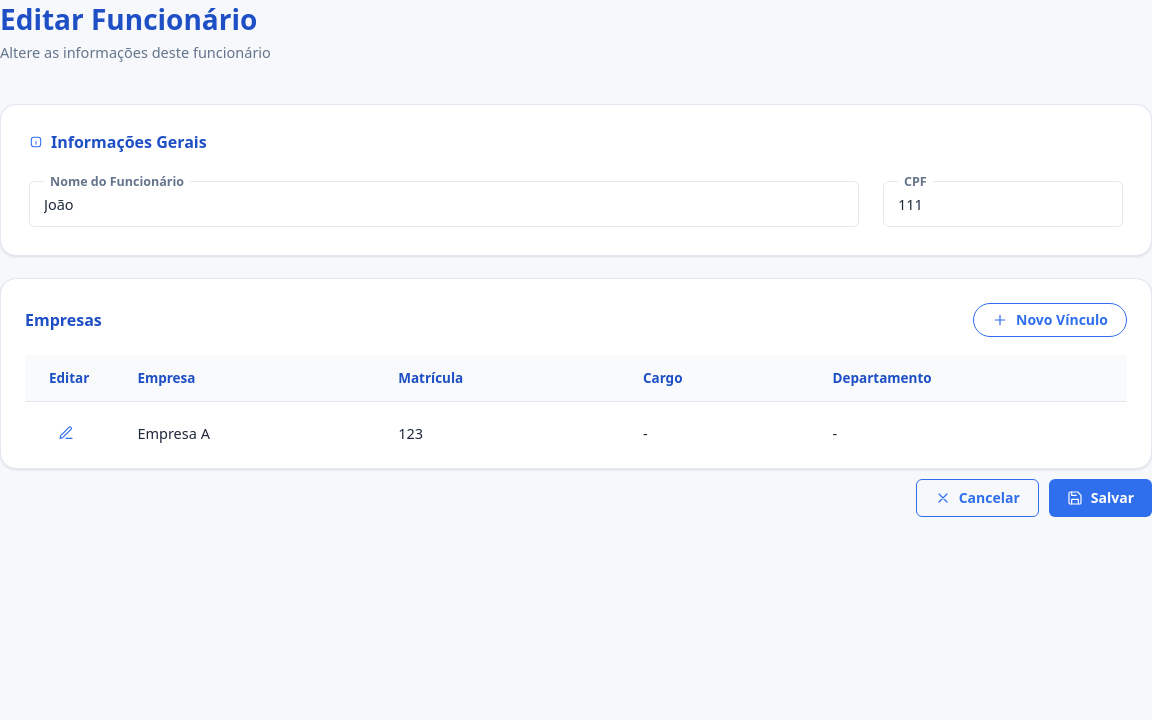
Test: FuncionarioForm › deve editar um vínculo existente
Expected: the text "Empresa A" is shown, [113, 402, 374, 464]
Click the button titled "Editar vínculo".
click(66, 433)  # box [49, 416, 83, 450]
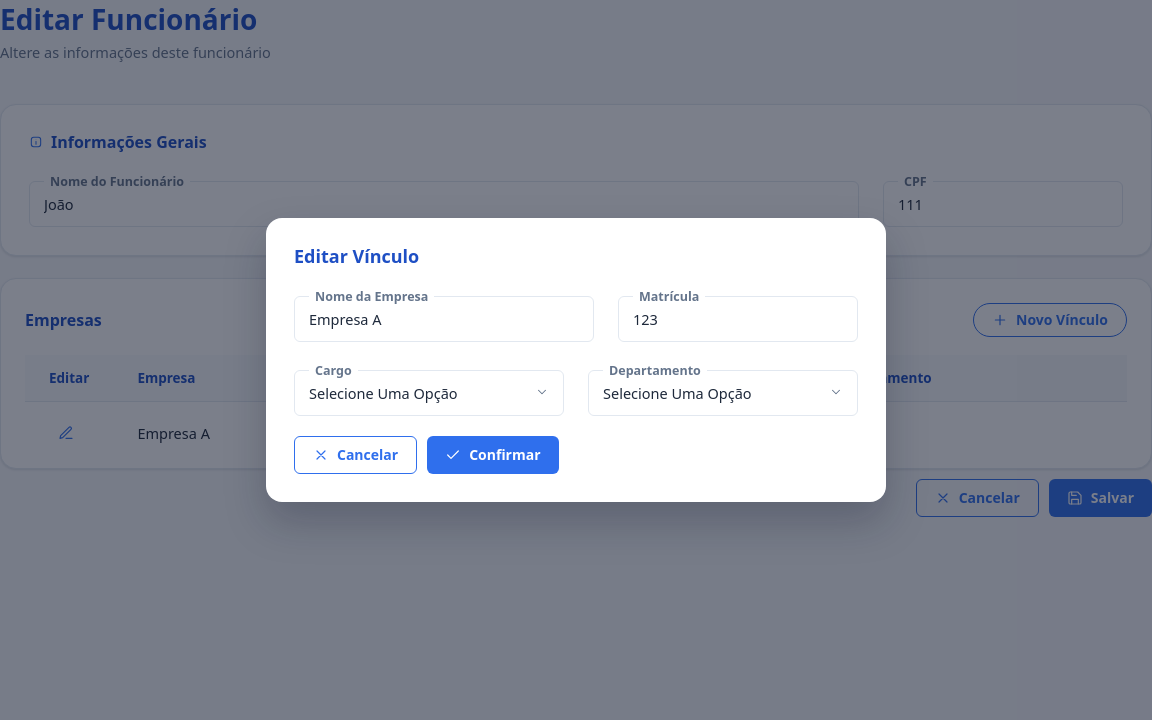
Expected: the heading "Editar Vínculo" is shown, [294, 244, 419, 268]
Replace the text in the field with placeholder "Insira o nome da empresa" below "Nome da Empresa" with "Empresa B" at point(444, 318), box [309, 305, 579, 331]
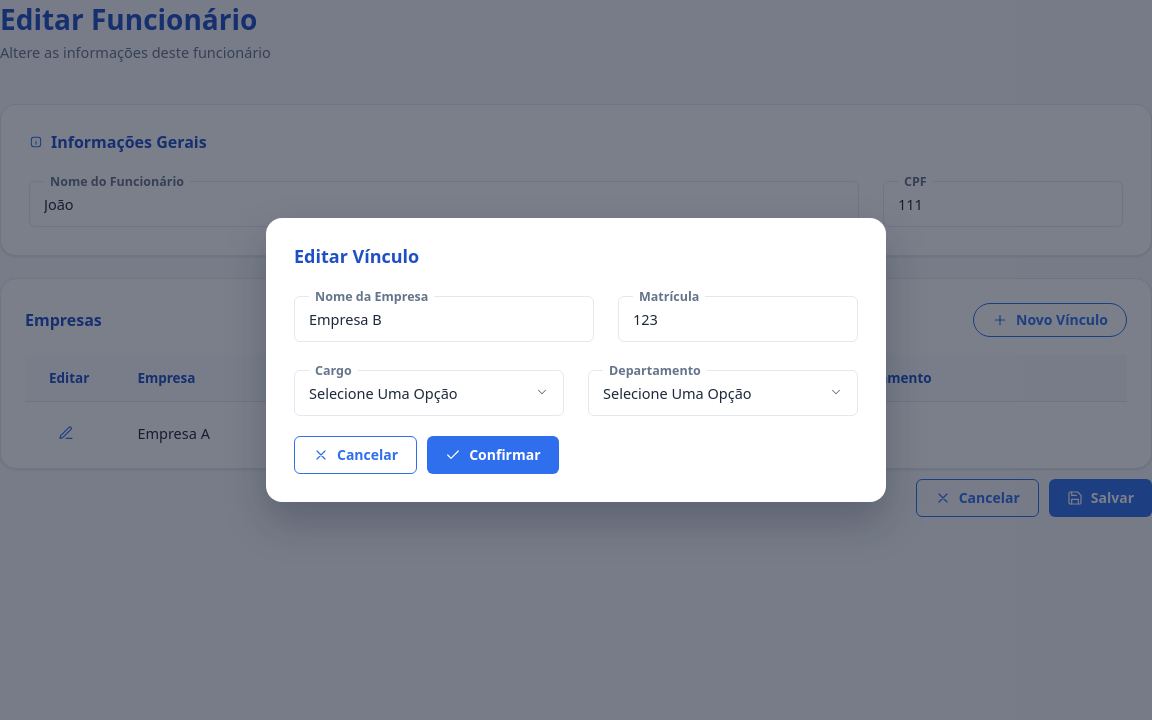
Replace the text in the 2nd field with placeholder "0000000000" with "999" at point(738, 318), box [633, 305, 843, 331]
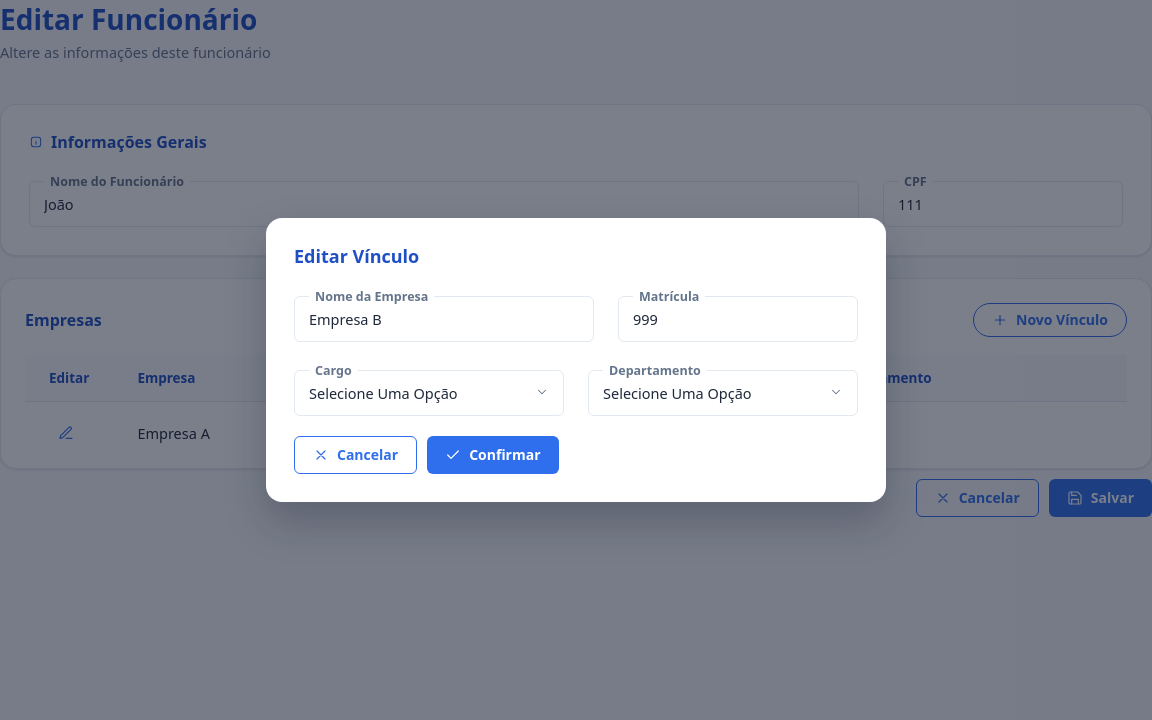
Select "Dev" in the 1st dropdown at point(429, 392), box [309, 379, 549, 405]
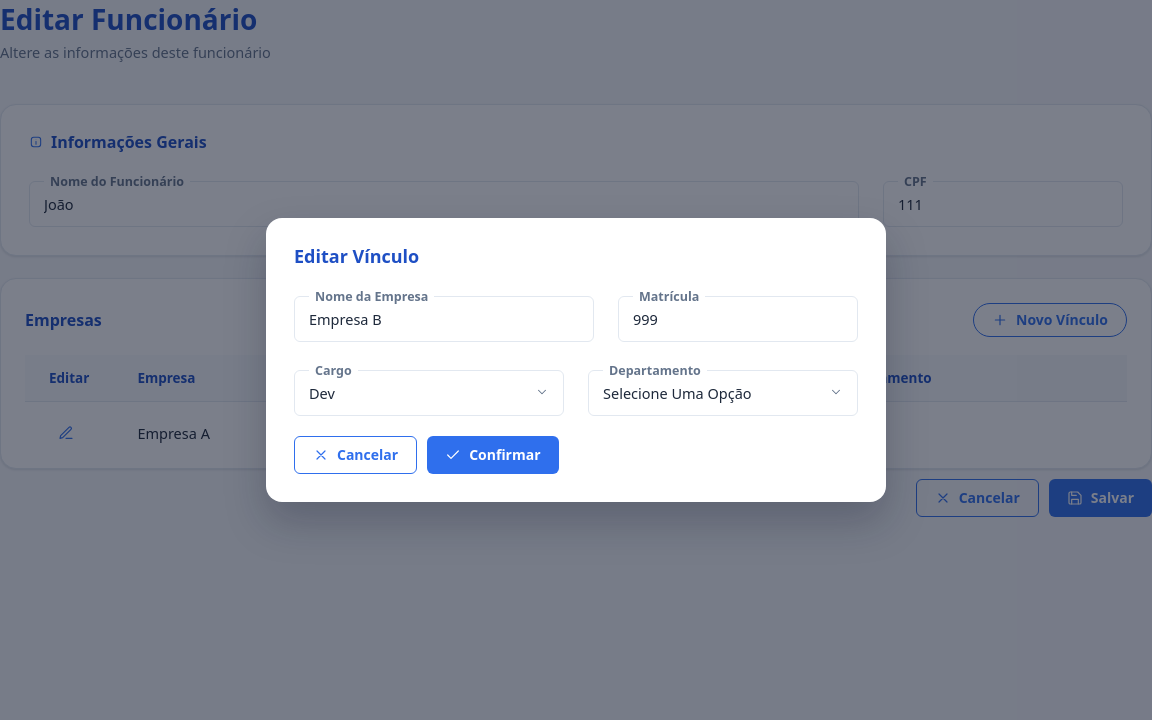
Select "TI" in the 2nd dropdown at point(723, 392), box [603, 379, 843, 405]
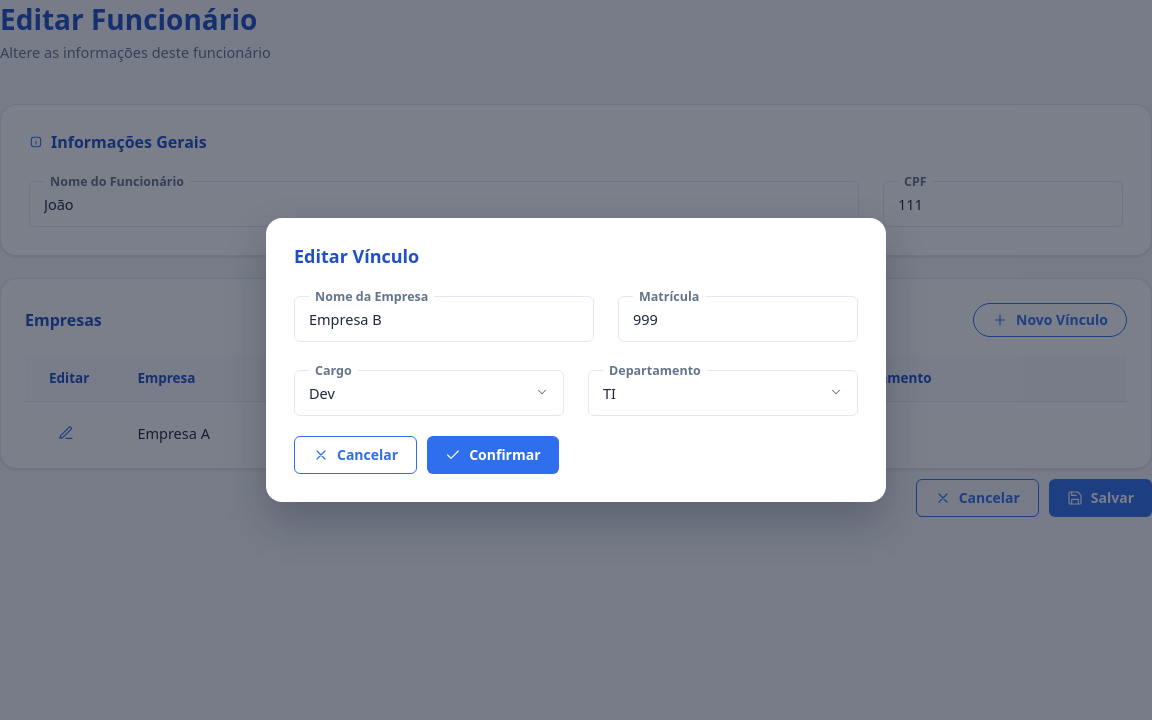
Click the button "Confirmar".
click(493, 455)  # box [427, 436, 558, 474]
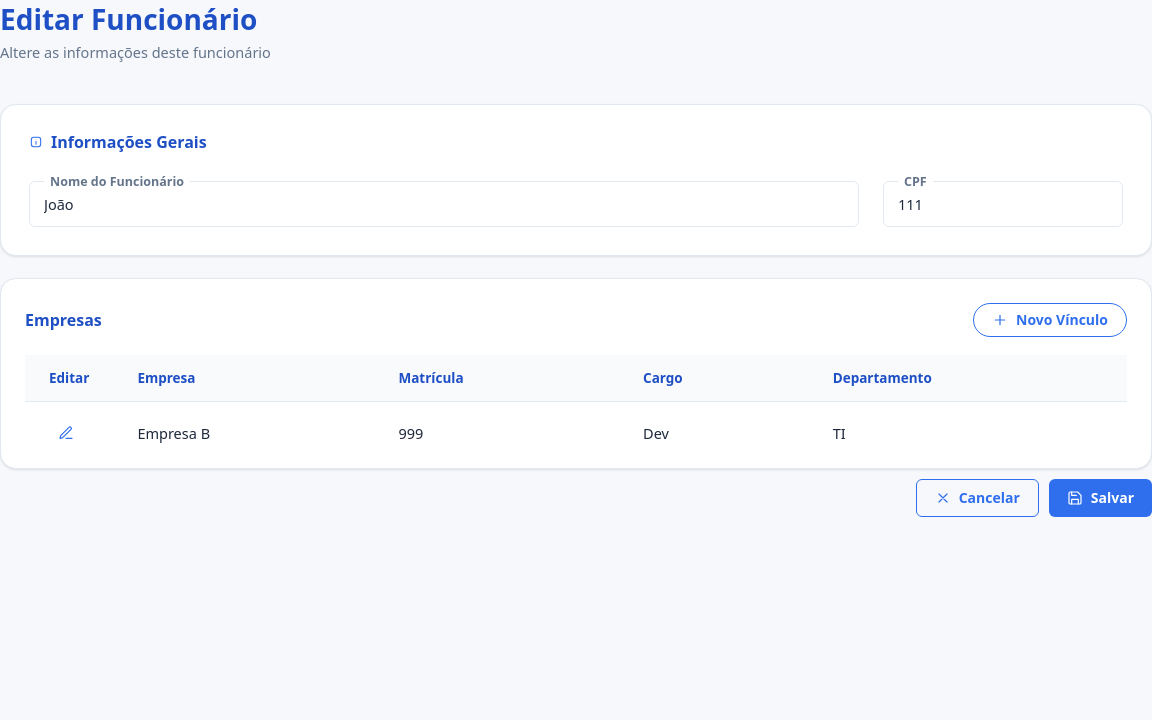
Expected: the text "Empresa B" is shown, [113, 402, 374, 464]
